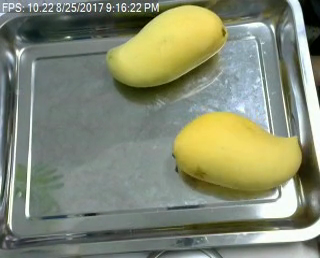Mango: (100, 4, 233, 92), (170, 105, 304, 192)
